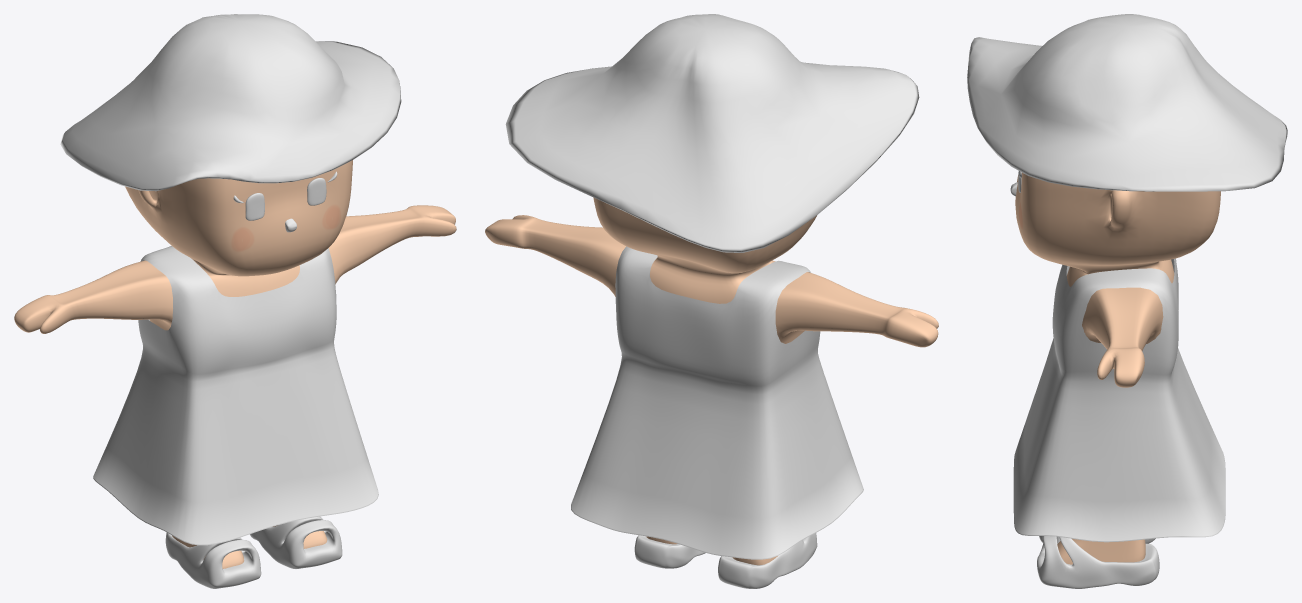
The model's file is chica_vestimenta_basica.fbx.
3 views of the same model, side by side, from view 1: azimuth 30°, elevation 25°; view 2: azimuth 150°, elevation 25°; view 3: azimuth 270°, elevation 25° (orthographic). The views are drawn at different scales.
Parts seen in each view (by area): view 1: Vestido, Gorro, Cuerpo, Sandalias, Ojos; view 2: Gorro, Vestido, Cuerpo, Sandalias; view 3: Gorro, Vestido, Cuerpo, Sandalias.
Boxes of the visible parts, x1,y1,x2,y2 form: Vestido: [93, 246, 378, 545]; Gorro: [60, 14, 401, 191]; Cuerpo: [14, 160, 456, 568]; Sandalias: [165, 516, 342, 588]; Ojos: [245, 178, 326, 220]; Gorro: [505, 14, 919, 252]; Vestido: [571, 246, 863, 559]; Cuerpo: [485, 197, 938, 565]; Sandalias: [634, 533, 817, 588]; Gorro: [967, 14, 1287, 191]; Vestido: [1013, 258, 1225, 542]; Cuerpo: [1015, 172, 1220, 564]; Sandalias: [1037, 536, 1159, 588].
Size of the model in its own units: 202 by 233 by 127.
